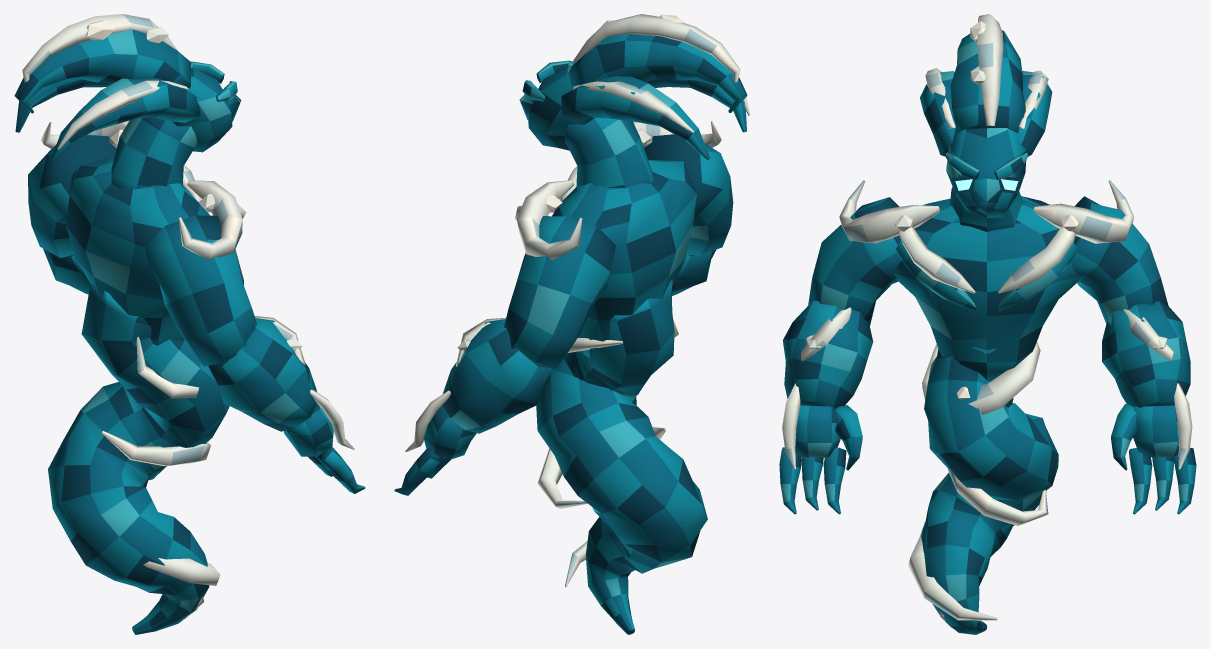
Rendered from nsel.glb.
3 renders of one model, left to right at view 1: azimuth 30°, elevation 25°; view 2: azimuth 150°, elevation 25°; view 3: azimuth 270°, elevation 25°, orthographic. The views are drawn at different scales.
Parts seen in each view (by area): view 1: body-tidal-spiral, body-sculpted-torso, arm-upper-left, arm-forearm-left, crown-main-breaking-wave, arm-upper-right, neck-flow, crown-side-wave-left, foam-shoulder-left, head-angular-face, foam-crown-main, foam-middle-spiral (+9 smaller); view 2: body-tidal-spiral, body-sculpted-torso, arm-upper-right, arm-forearm-right, crown-main-breaking-wave, arm-upper-left, neck-flow, crown-side-wave-right, foam-crown-main, foam-shoulder-right, head-angular-face, hand-palm-right (+8 smaller); view 3: body-tidal-spiral, body-sculpted-torso, arm-forearm-right, arm-forearm-left, arm-upper-left, arm-upper-right, crown-main-breaking-wave, head-angular-face, foam-shoulder-right, foam-shoulder-left, hand-palm-right, foam-waist-breaking-curl (+26 smaller).
Boxes of the visible parts, x1,y1,x2,y2 form: body-tidal-spiral: (48,283,229,634); body-sculpted-torso: (66,156,209,345); arm-upper-left: (145,215,257,366); arm-forearm-left: (208,318,316,431); crown-main-breaking-wave: (14,29,190,113); arm-upper-right: (28,134,116,257); neck-flow: (111,118,197,189); crown-side-wave-left: (52,78,200,160); foam-shoulder-left: (178,180,242,259); head-angular-face: (172,67,232,152); foam-crown-main: (22,14,177,82); foam-middle-spiral: (101,430,210,466); body-tidal-spiral: (536,280,707,634); body-sculpted-torso: (552,159,696,357); arm-upper-right: (504,216,615,367); arm-forearm-right: (442,319,552,433); crown-main-breaking-wave: (568,34,747,112); arm-upper-left: (644,134,733,255); neck-flow: (565,117,653,189); crown-side-wave-right: (561,76,710,159); foam-crown-main: (573,14,740,82); foam-shoulder-right: (516,180,582,259); head-angular-face: (528,65,594,150); hand-palm-right: (424,405,476,459); body-tidal-spiral: (920,347,1058,634); body-sculpted-torso: (893,196,1078,381); arm-forearm-right: (1102,301,1190,407); arm-forearm-left: (783,300,873,408); arm-upper-left: (808,197,902,325); arm-upper-right: (1070,196,1168,324); crown-main-breaking-wave: (950,30,1025,132); head-angular-face: (946,126,1026,218); foam-shoulder-right: (1033,180,1134,243); foam-shoulder-left: (839,180,939,243); hand-palm-right: (1133,405,1178,457); foam-waist-breaking-curl: (922,342,1040,414).
Bounding box in the file's own units: 1.8 × 4.34 × 2.78.
